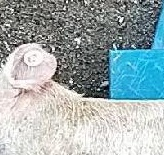text: (15, 41, 51, 75)
